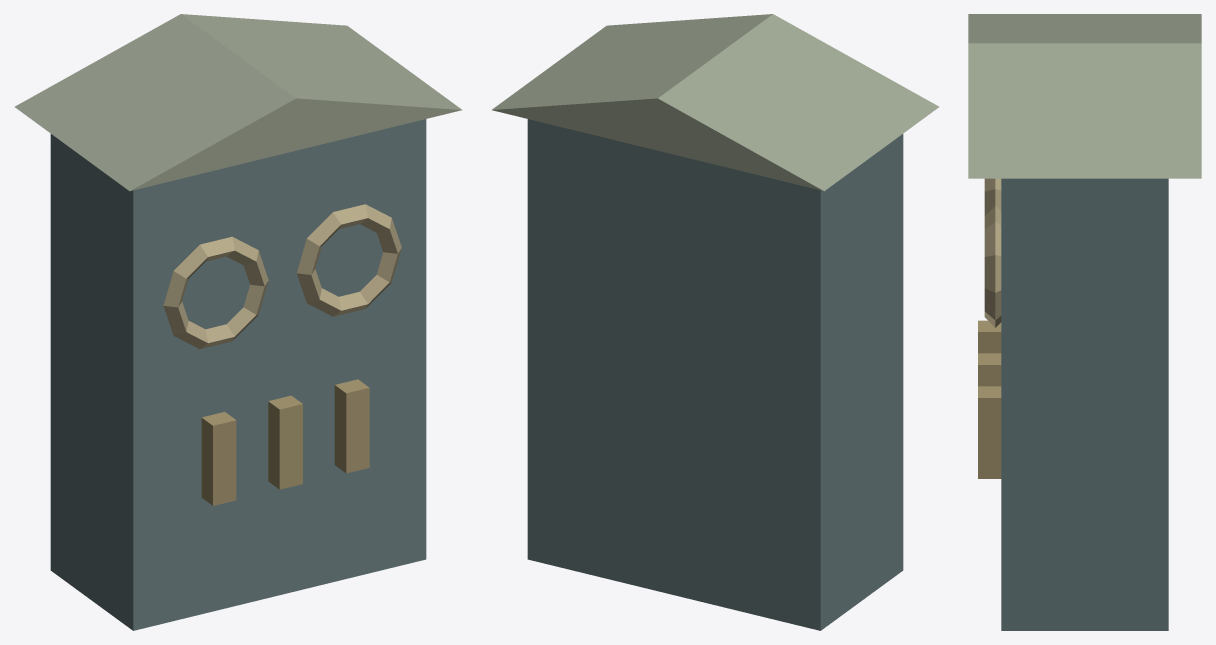
File: map-exclusive-v3__iron_12.glb
3 renders of one model, left to right at view 1: azimuth 30°, elevation 25°; view 2: azimuth 150°, elevation 25°; view 3: azimuth 270°, elevation 25°, orthographic.
Parts seen in each view (by area): view 1: iron_12; view 2: iron_12; view 3: iron_12.
Part boxes in pixels (box(x1,y1,x2,y2)): iron_12: box(14, 14, 461, 630); iron_12: box(492, 14, 939, 630); iron_12: box(968, 14, 1201, 630).
Size of the model in its own units: 1 by 1.46 by 0.6.
